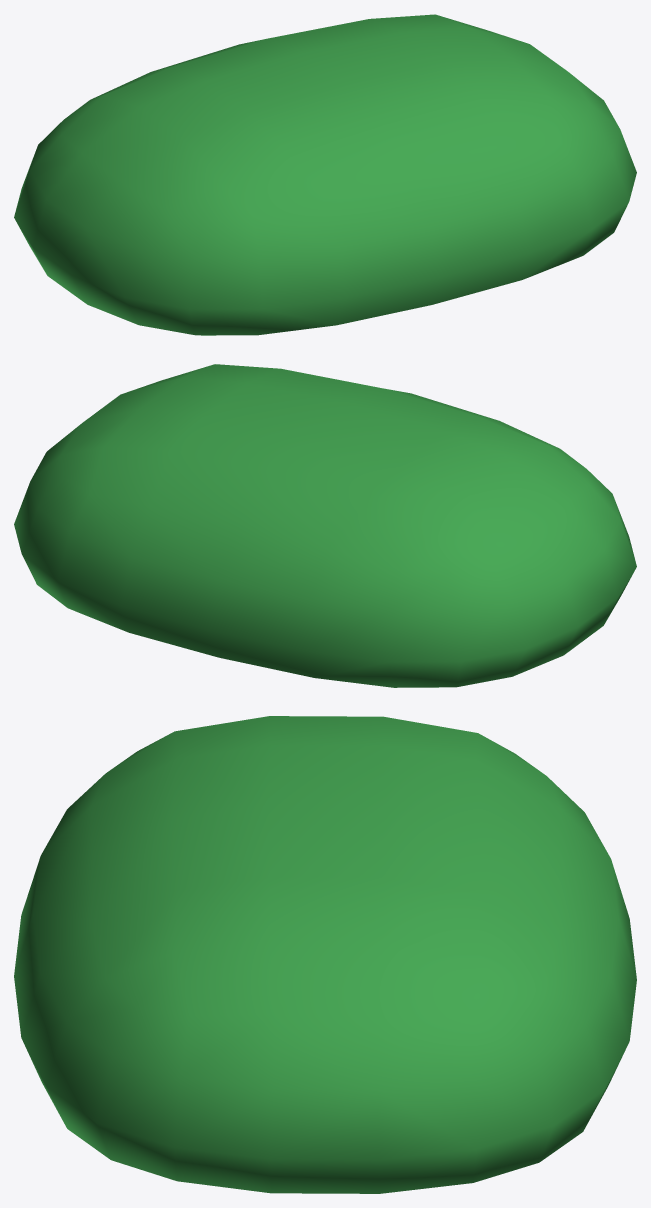
Rendered from almofada_natal_verde_pacote.glb.
3 views of the same model, one above another, from view 1: azimuth 30°, elevation 25°; view 2: azimuth 150°, elevation 25°; view 3: azimuth 270°, elevation 25° (orthographic). The views are drawn at different scales.
Visible parts, largest first — view 1: almofada_natal_verde_pacote; view 2: almofada_natal_verde_pacote; view 3: almofada_natal_verde_pacote.
Part boxes in pixels (x1,y1,x2,y2): almofada_natal_verde_pacote: [14, 14, 636, 335]; almofada_natal_verde_pacote: [14, 364, 636, 687]; almofada_natal_verde_pacote: [14, 716, 636, 1193].
Bounding box in the file's own units: 0.462 × 0.143 × 0.3356.
1 material, 1 textured.
